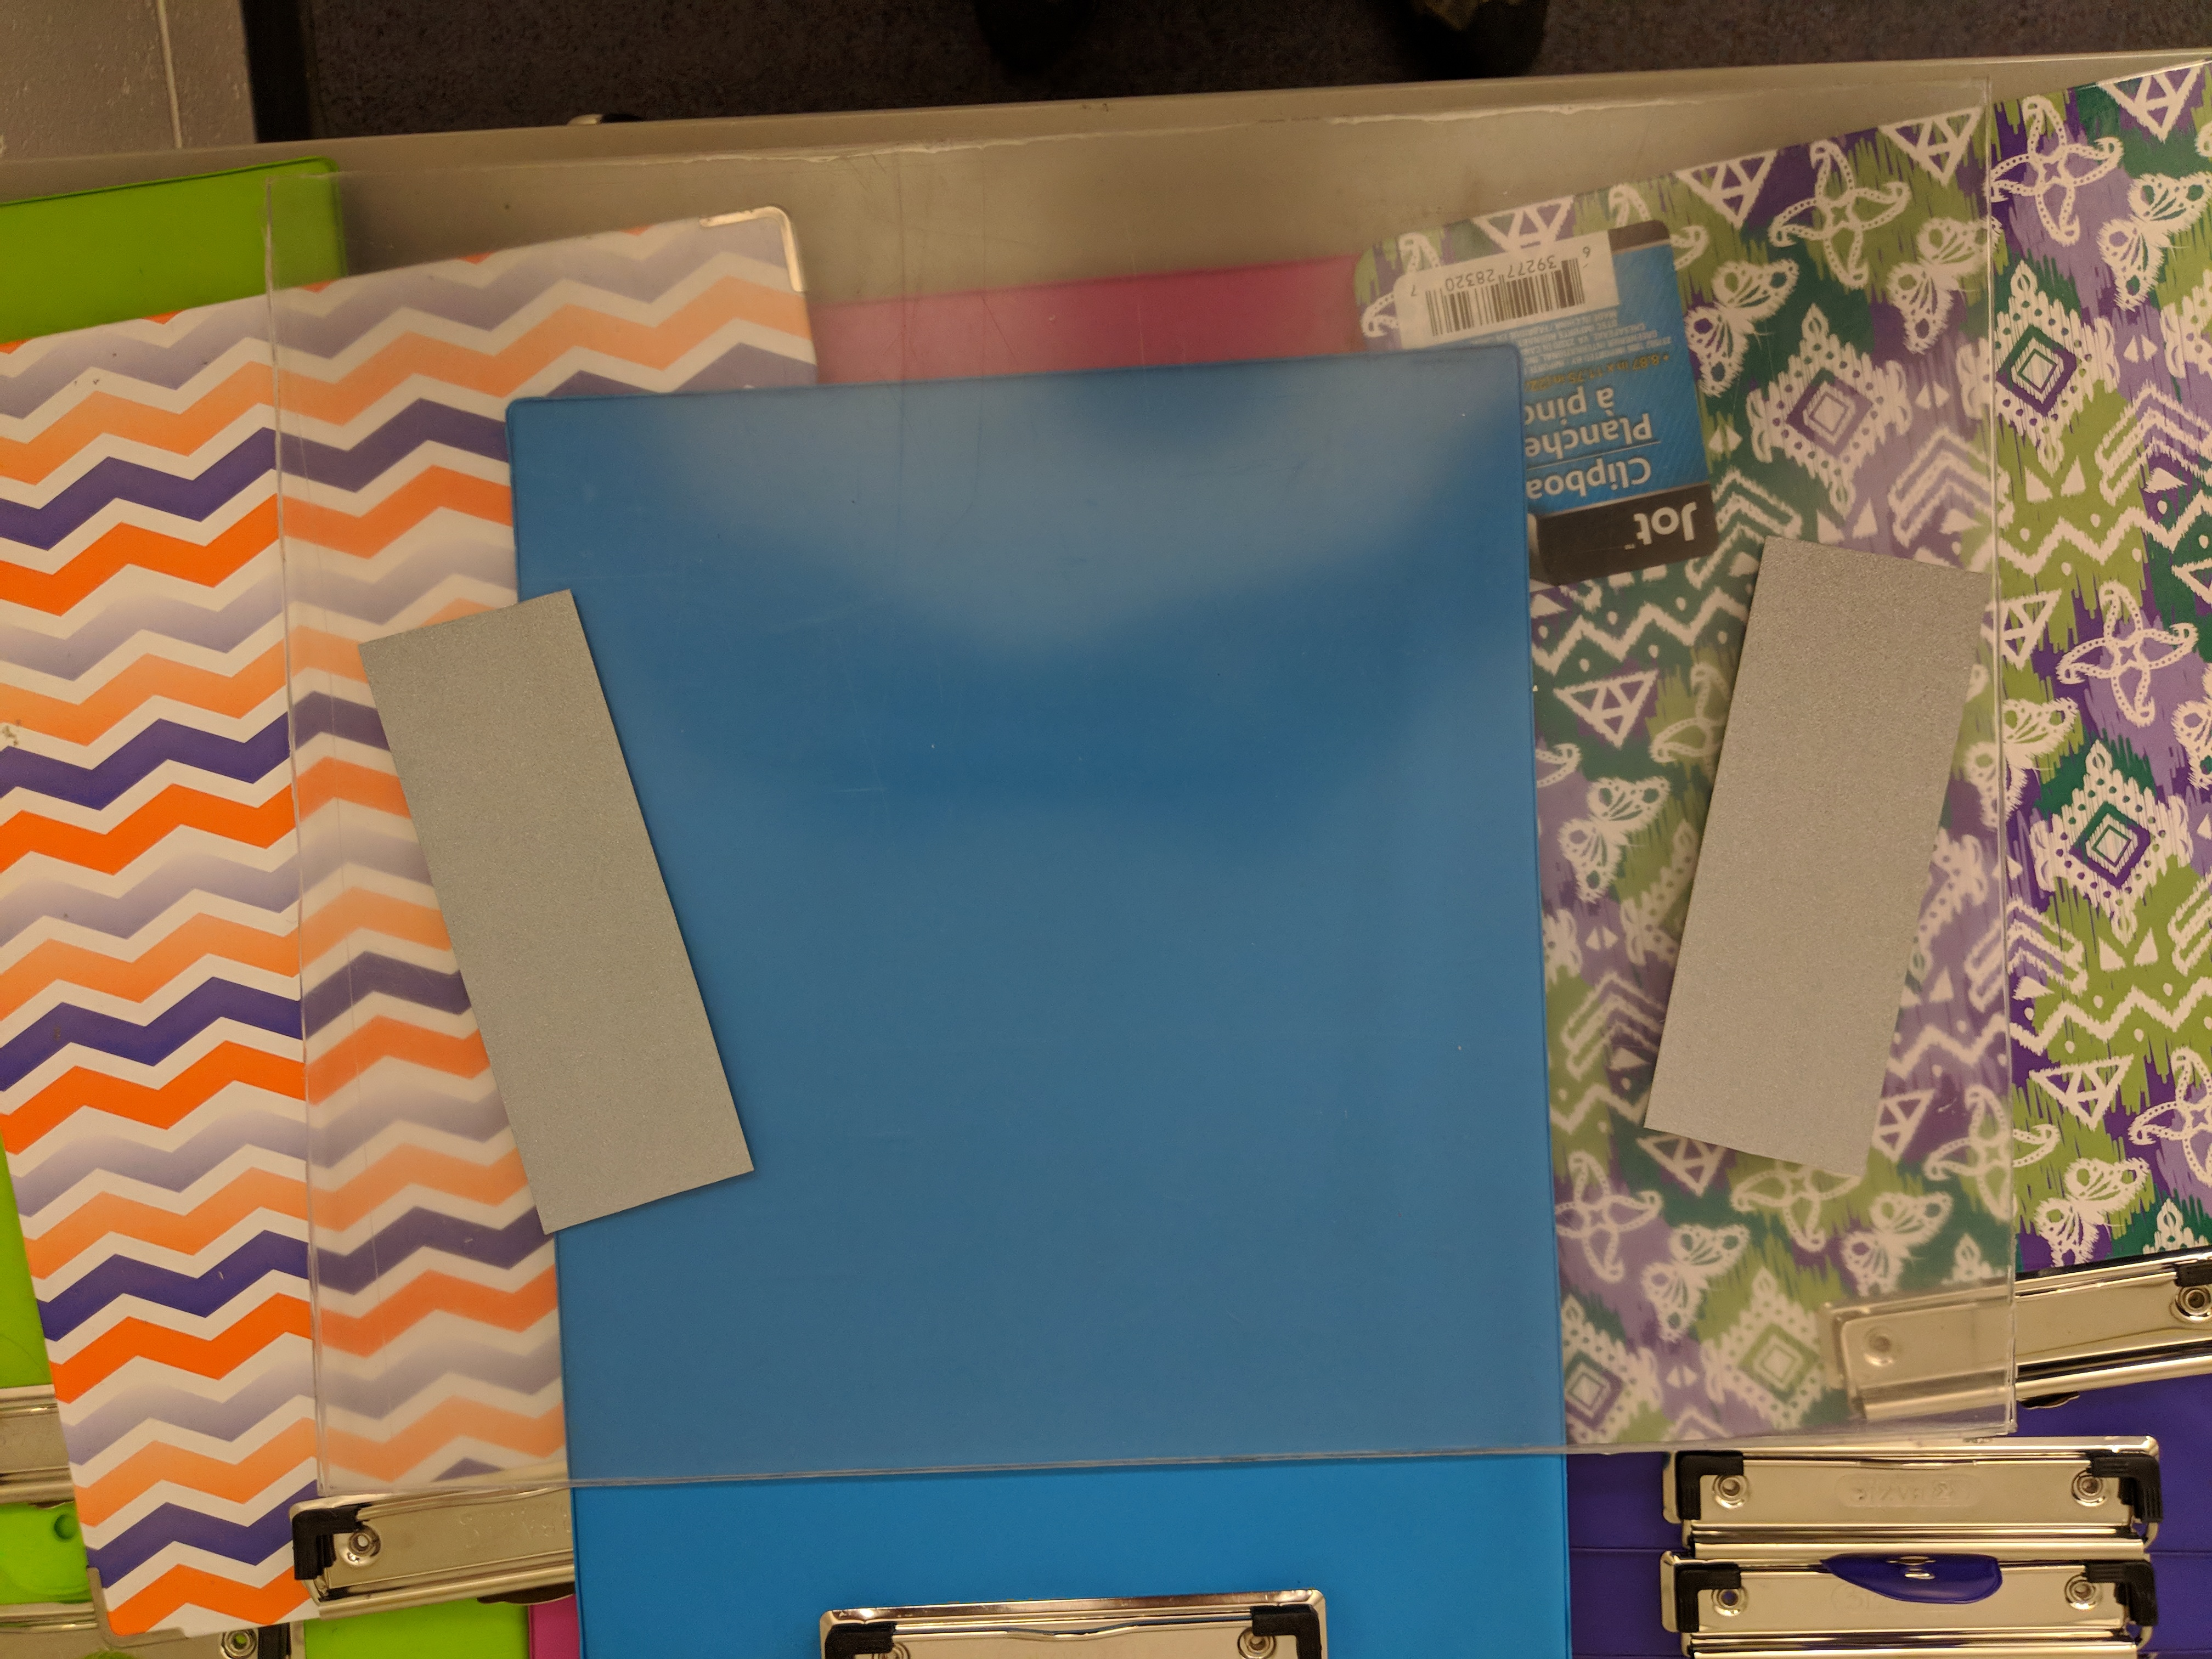vision_target: (343, 528, 1993, 1256)
